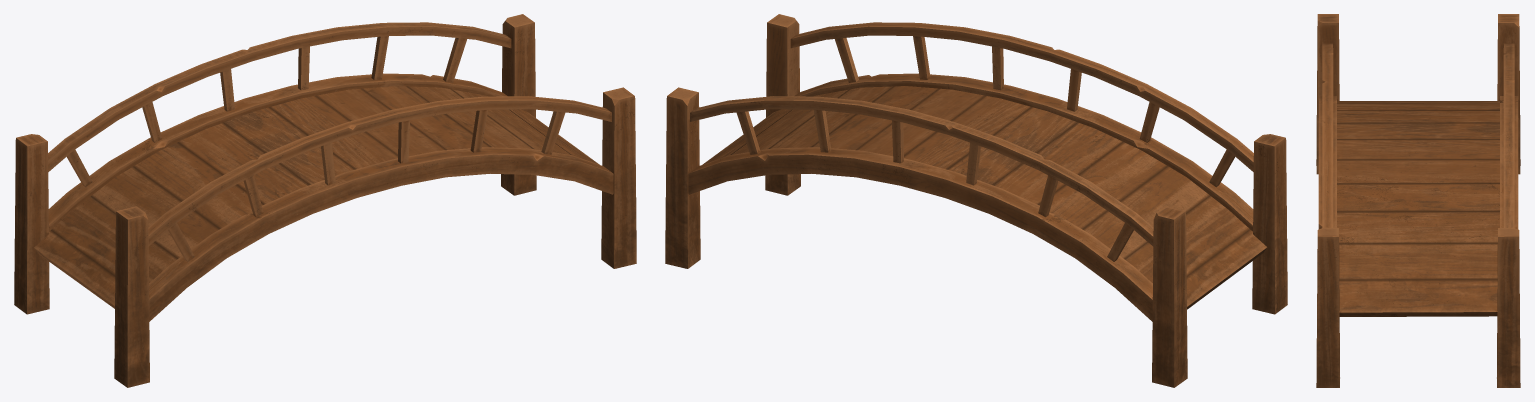
Rendered from SmallBridge.fbx.
3 renders of one model, left to right at view 1: azimuth 30°, elevation 25°; view 2: azimuth 150°, elevation 25°; view 3: azimuth 270°, elevation 25°, orthographic. The views are drawn at different scales.
Visible parts, largest first — view 1: Small_Bridge; view 2: Small_Bridge; view 3: Small_Bridge.
Part boxes in pixels (x1=…): Small_Bridge: x1=14, y1=14, x2=636, y2=387; Small_Bridge: x1=665, y1=14, x2=1287, y2=387; Small_Bridge: x1=1316, y1=14, x2=1520, y2=387.
Size of the model in its own units: 580 by 222 by 224.
